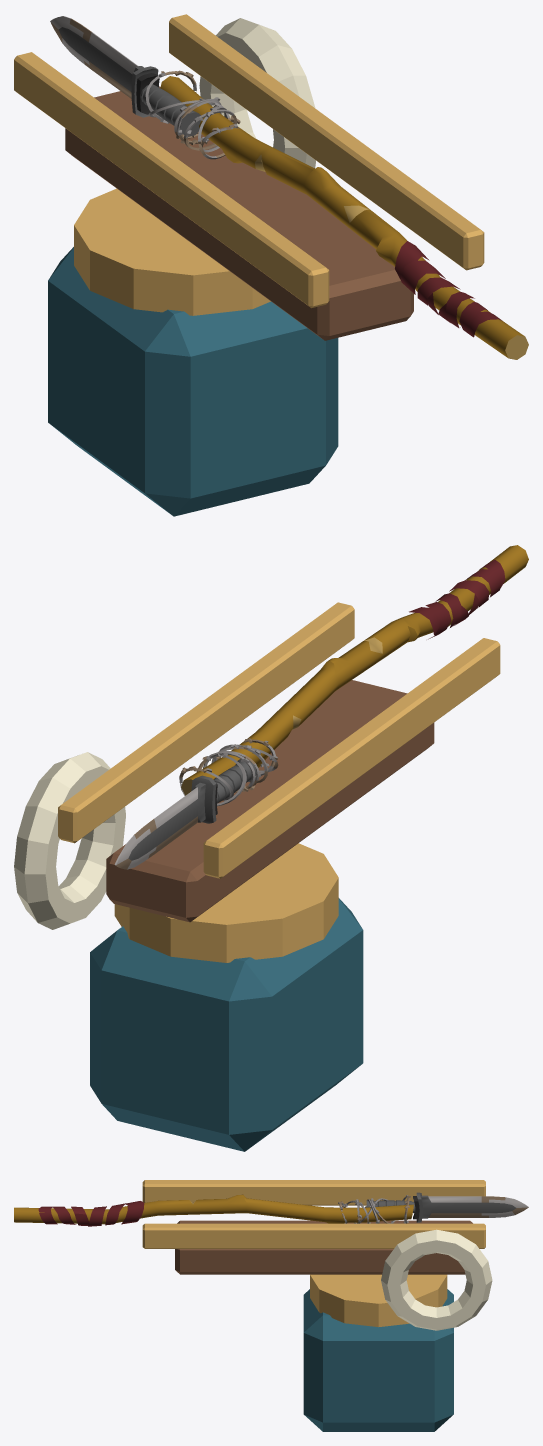
File: harpoon-launcher.glb
3 views of the same model, one above another, from view 1: azimuth 30°, elevation 25°; view 2: azimuth 150°, elevation 25°; view 3: azimuth 270°, elevation 25° (orthographic). The views are drawn at different scales.
Parts seen in each view (by area): view 1: navy_pedestal, launcher_bed, Quaternius_harpoon_bolt, brass_rail.001, brass_rail, brass_swivel, rope_reel; view 2: navy_pedestal, launcher_bed, Quaternius_harpoon_bolt, brass_rail, brass_rail.001, brass_swivel, rope_reel; view 3: navy_pedestal, Quaternius_harpoon_bolt, brass_rail.001, launcher_bed, brass_rail, rope_reel, brass_swivel.
Boxes of the visible parts, <box> form: navy_pedestal: <box>48,247,338,516</box>; launcher_bed: <box>65,86,413,340</box>; Quaternius_harpoon_bolt: <box>50,16,528,359</box>; brass_rail.001: <box>169,14,484,270</box>; brass_rail: <box>14,52,329,308</box>; brass_swivel: <box>74,188,270,315</box>; rope_reel: <box>199,18,315,168</box>; navy_pedestal: <box>90,898,363,1151</box>; launcher_bed: <box>106,680,434,922</box>; Quaternius_harpoon_bolt: <box>114,545,528,869</box>; brass_rail: <box>203,638,500,878</box>; brass_rail.001: <box>58,602,354,843</box>; brass_swivel: <box>114,843,338,962</box>; rope_reel: <box>14,752,125,929</box>; navy_pedestal: <box>303,1289,453,1431</box>; Quaternius_harpoon_bolt: <box>14,1192,528,1226</box>; brass_rail.001: <box>142,1223,485,1248</box>; launcher_bed: <box>175,1220,472,1274</box>; brass_rail: <box>142,1180,485,1205</box>; rope_reel: <box>381,1229,492,1330</box>; brass_swivel: <box>310,1274,447,1327</box>.
Size of the model in its own units: 0.732 by 1.13 by 2.4.
5 materials, 1 textured.
